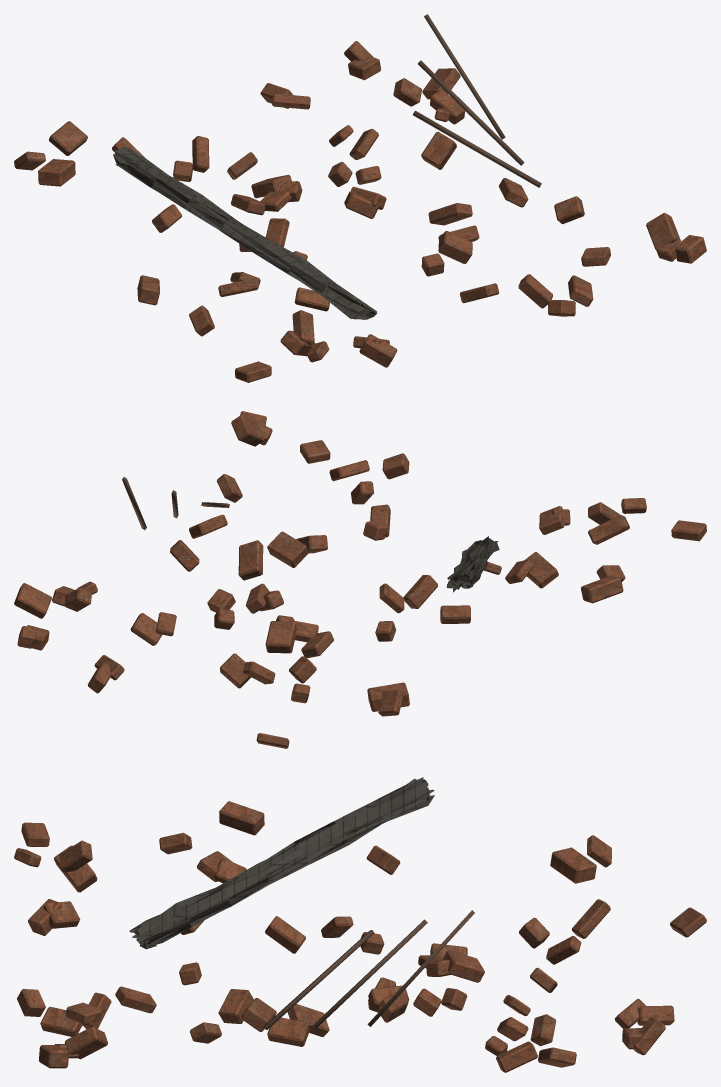
Rendered from tunnel_rubble_hero.glb.
The picture shows the model from 3 angles, top to bottom: view 1: azimuth 30°, elevation 25°; view 2: azimuth 150°, elevation 25°; view 3: azimuth 270°, elevation 25°; orthographic projection. The views are drawn at different scales.
Parts seen in each view (by area): view 1: TunnelBrickChunks, TunnelSplinterBeam, TunnelRebar; view 2: TunnelBrickChunks, TunnelSplinterBeam, TunnelRebar; view 3: TunnelBrickChunks, TunnelSplinterBeam, TunnelRebar.
Boxes of the visible parts, box(x1,y1,x2,y2) form: TunnelBrickChunks: box(14, 41, 706, 382); TunnelSplinterBeam: box(113, 147, 377, 319); TunnelRebar: box(413, 14, 541, 187); TunnelBrickChunks: box(14, 411, 706, 748); TunnelSplinterBeam: box(446, 536, 499, 592); TunnelRebar: box(122, 477, 229, 530); TunnelBrickChunks: box(14, 801, 706, 1072); TunnelSplinterBeam: box(129, 777, 434, 949); TunnelRebar: box(263, 910, 474, 1029).
Bounding box in the file's own units: 3.23 × 0.9861 × 3.79.
3 materials, 2 textured.
